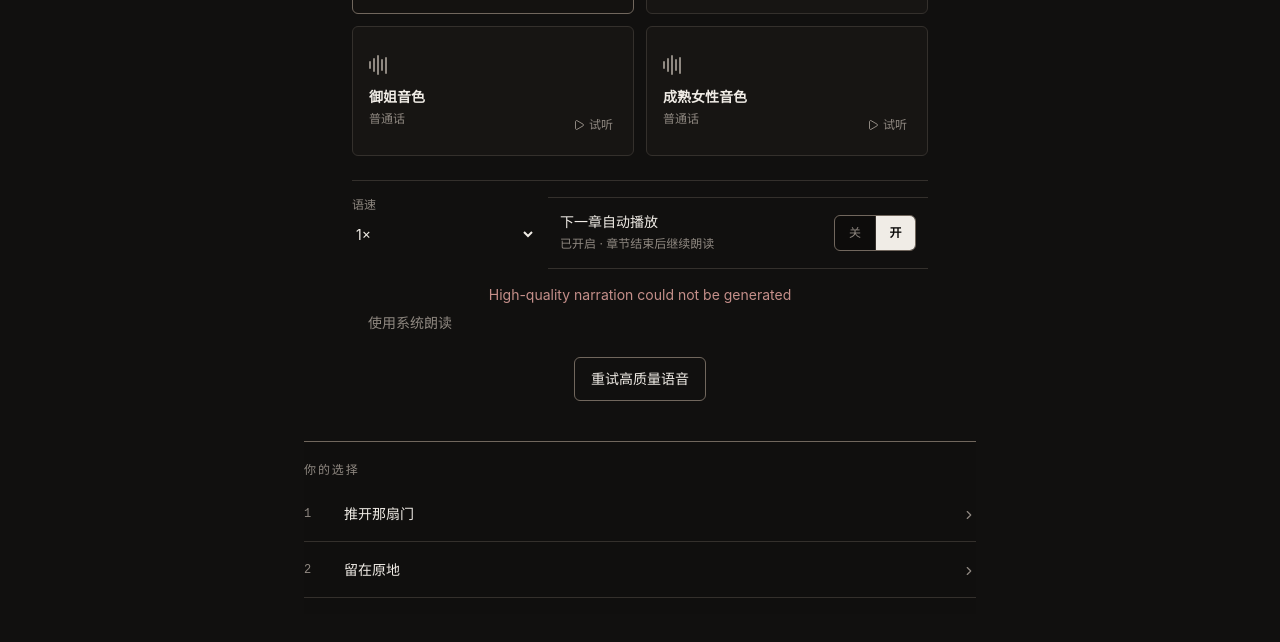
Scenario: StoryListeningExperience › uses browser Chinese narration only after explicit selection
This screenshot has width=1280, height=642.
(page scrolled)
Click the button "使用系统朗读" at (410, 323), box [352,305,468,341]
(page scrolled)
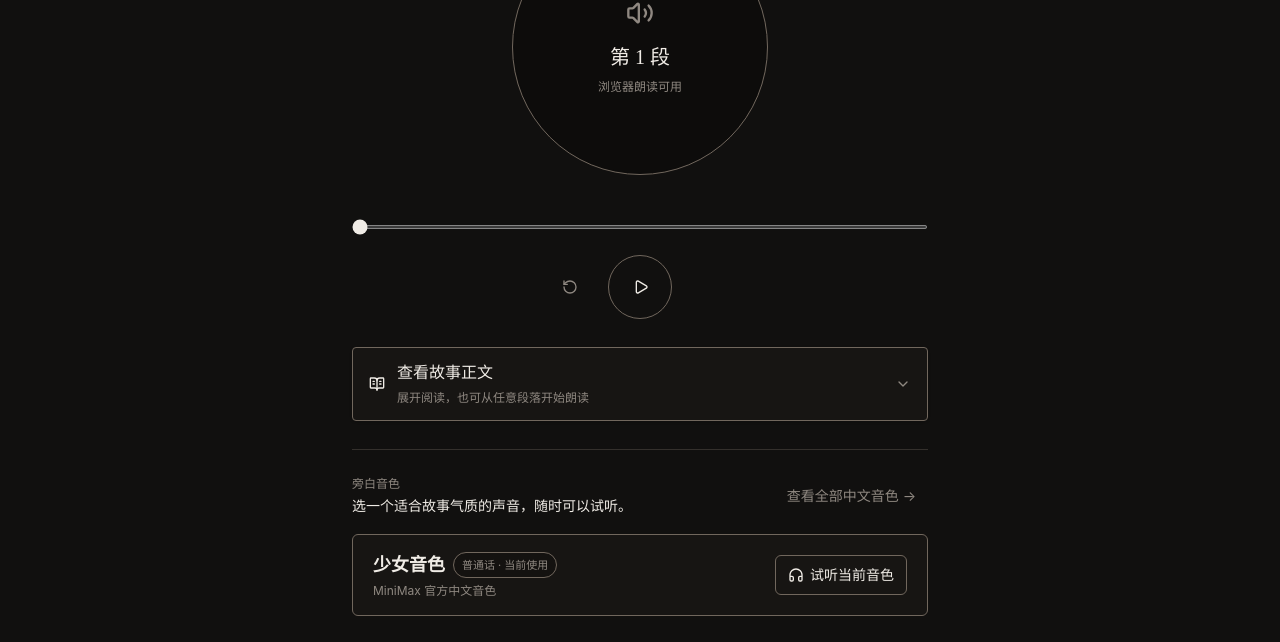
Expected: the button named "播放朗读" is enabled
Click the button named "播放朗读" at (640, 287), box [608,255,672,319]
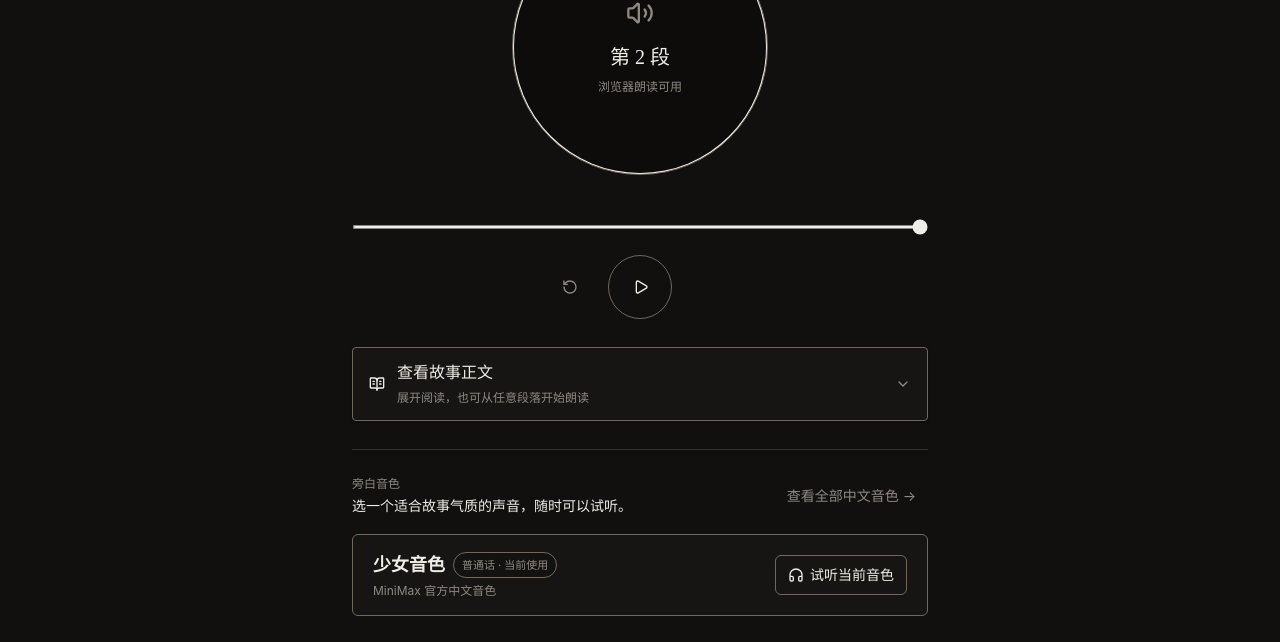
Expected: the text "朗读中" is shown, [598,79,682,95]
Expected: the text "第 2 段" is shown, [610,46,670,68]
